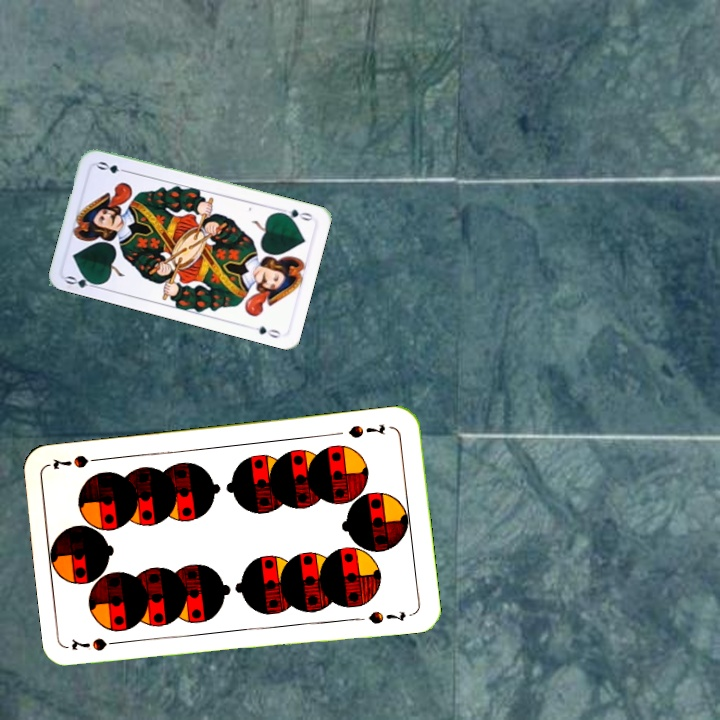GO: (61, 271, 103, 291), (275, 205, 315, 223)
S7: (67, 634, 127, 654), (344, 420, 388, 440)
